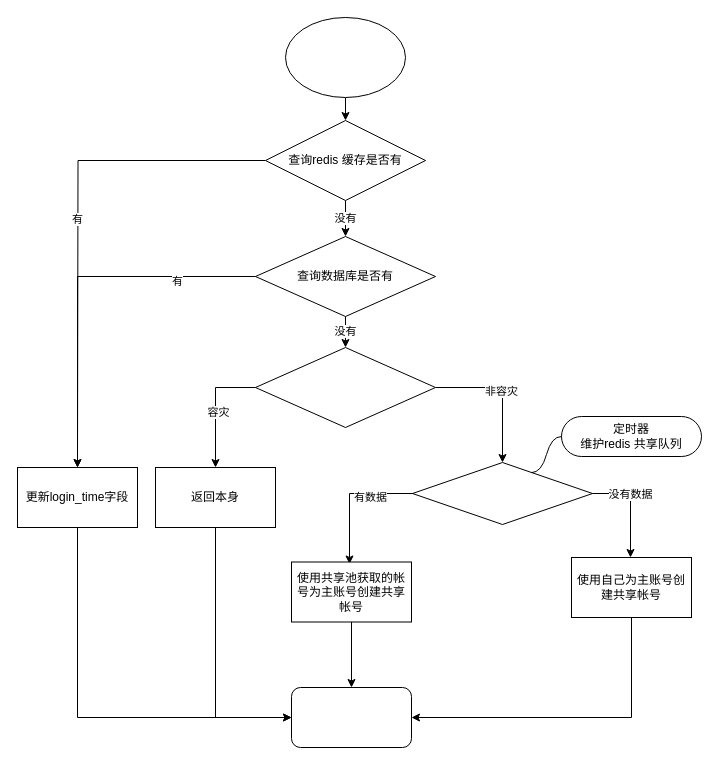
Some shapes in this 719 by 765 pixel diagram are drawn without their labels. The centre of each missing label's shape, as x and y in pixels:
"shareAccount（start）" goes at point 345,57.
"是否容灾" goes at point 345,387.
"查询redis队列共享池" goes at point 502,493.
"结束" goes at point 351,717.
